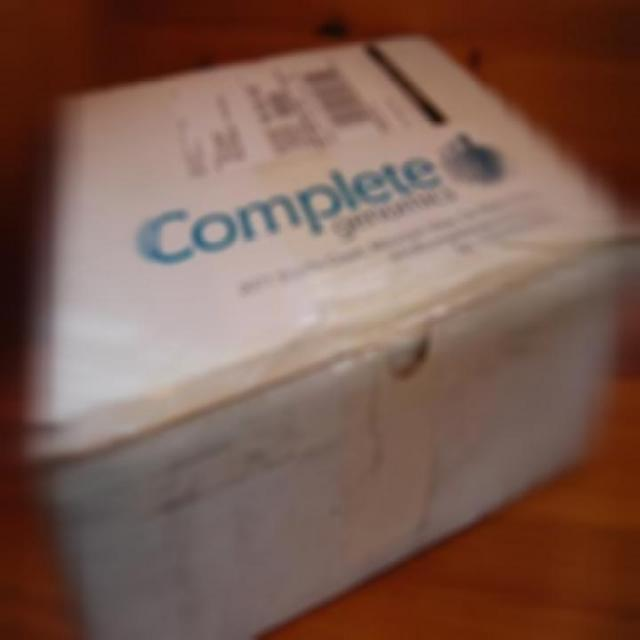box: (42, 61, 635, 640)
